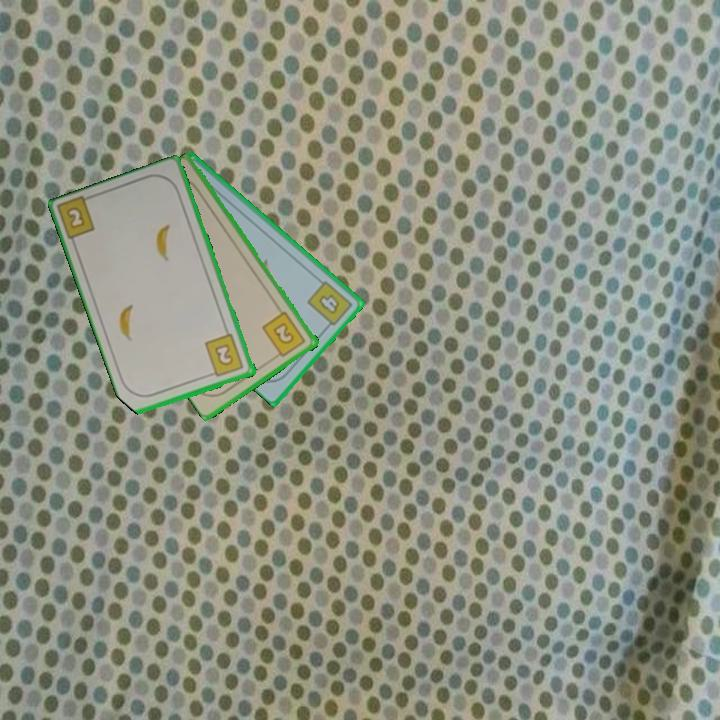2b: (259, 308, 309, 362), (201, 331, 247, 380), (63, 203, 88, 232)
4b: (303, 277, 355, 332)
